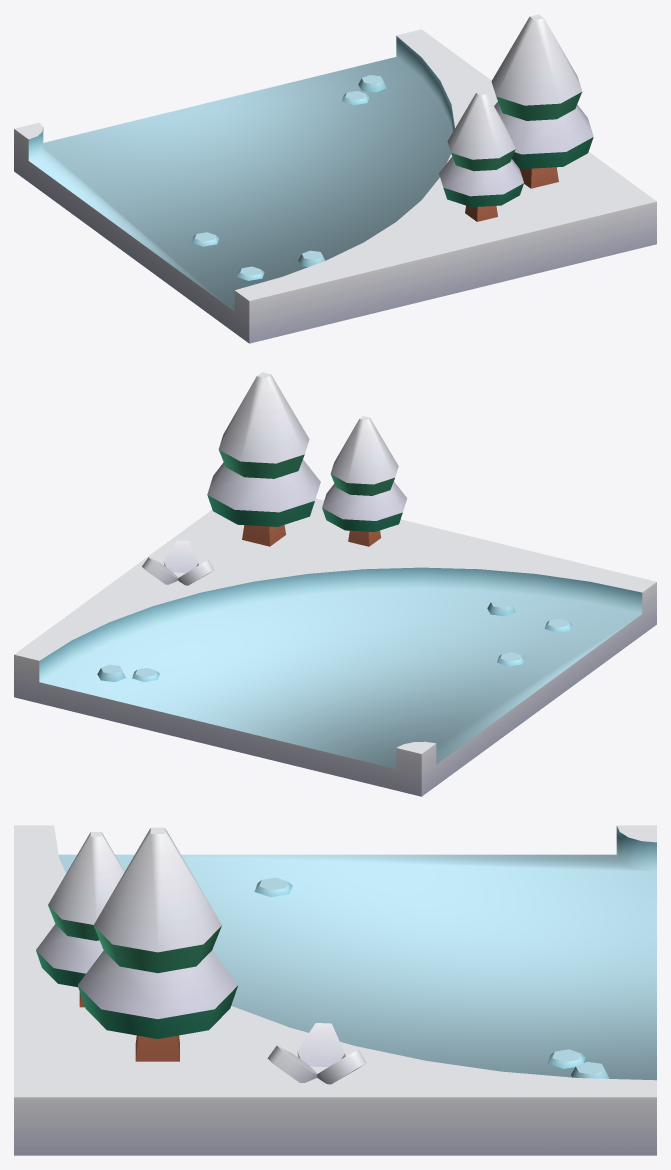
Rendered from kenney-tower-defense-snow-tile-wide-corner.glb.
The picture shows the model from 3 angles, top to bottom: view 1: azimuth 30°, elevation 25°; view 2: azimuth 150°, elevation 25°; view 3: azimuth 270°, elevation 25°; orthographic projection. The views are drawn at different scales.
Parts seen in each view (by area): view 1: snow-tile-wide-corner; view 2: snow-tile-wide-corner; view 3: snow-tile-wide-corner.
Part boxes in pixels (x1,y1,x2,y2): snow-tile-wide-corner: [14, 14, 656, 343]; snow-tile-wide-corner: [14, 372, 656, 796]; snow-tile-wide-corner: [14, 825, 656, 1155].
Size of the model in its own units: 2 by 0.9601 by 2.
Materials: 1 (1 with a texture image).
